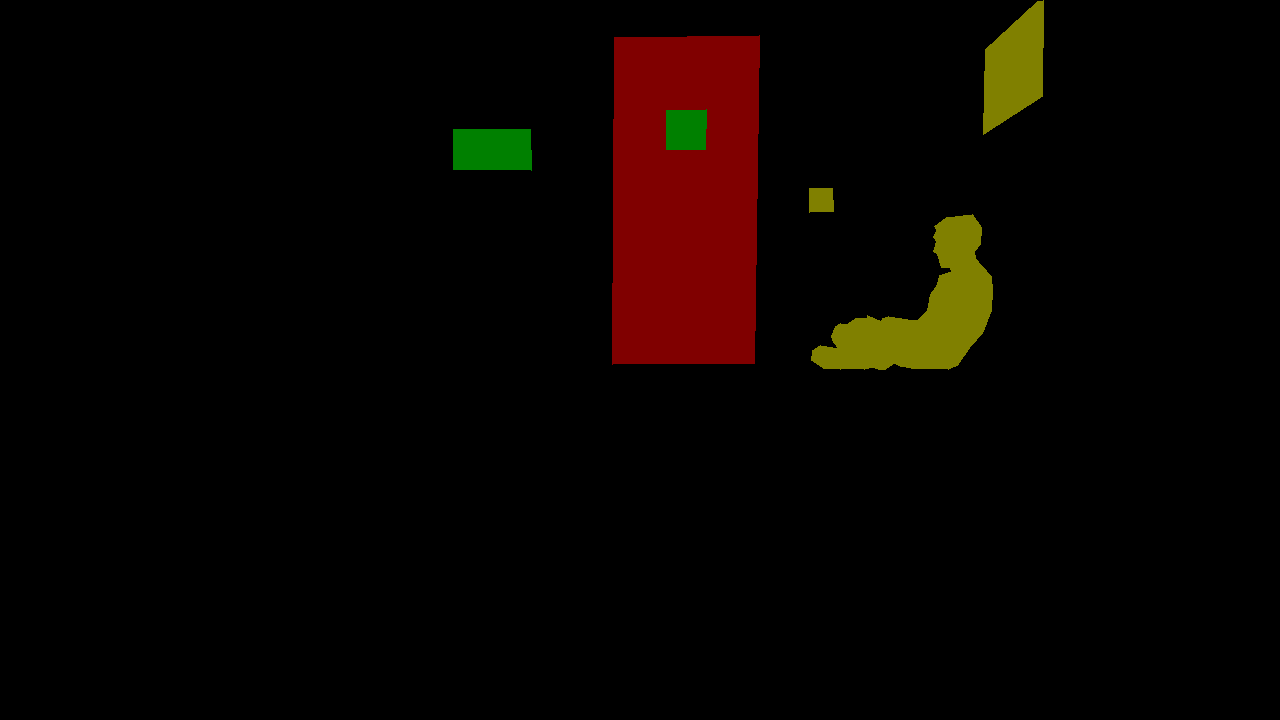door: (612, 35, 759, 364)
person: (811, 214, 992, 369)
sign: (983, 0, 1043, 134), (453, 129, 531, 170), (666, 109, 706, 149), (809, 188, 833, 212)
